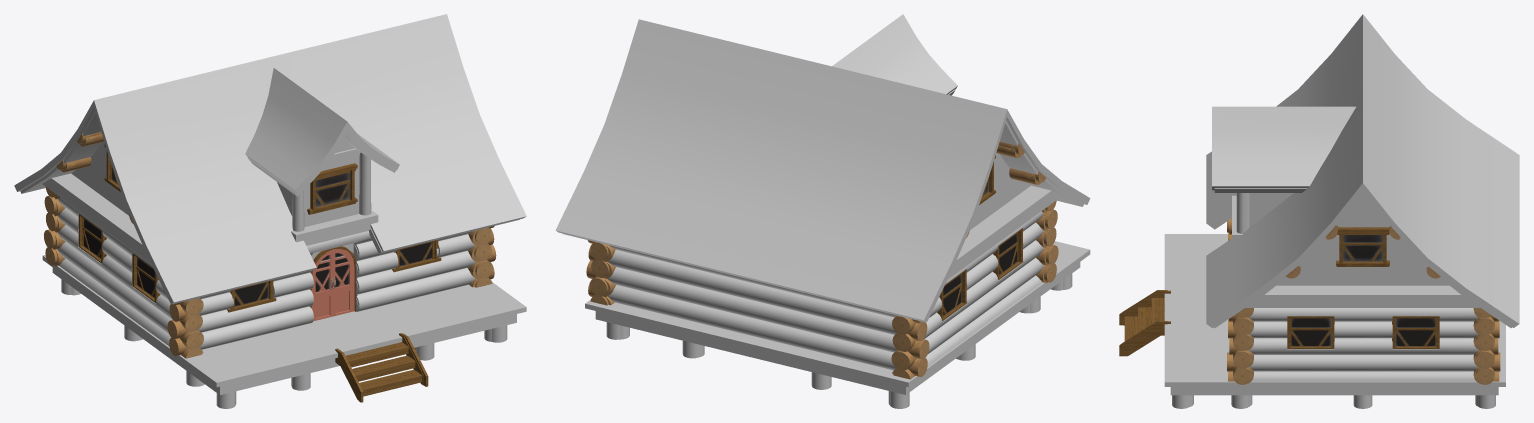
3 renders of one model, left to right at view 1: azimuth 30°, elevation 25°; view 2: azimuth 150°, elevation 25°; view 3: azimuth 270°, elevation 25°, orthographic. The views are drawn at different scales.
Parts seen in each view (by area): view 1: pCylinder25, base_combine; view 2: pCylinder25, base_combine; view 3: pCylinder25, base_combine.
Part boxes in pixels (bbox=[...]): pCylinder25: bbox=[14, 14, 526, 408]; base_combine: bbox=[20, 111, 519, 403]; pCylinder25: bbox=[555, 14, 1090, 408]; base_combine: bbox=[563, 89, 1083, 404]; pCylinder25: bbox=[1119, 14, 1519, 408]; base_combine: bbox=[1123, 188, 1511, 406].
Bounding box in the file's own units: 11.91 × 7.96 × 11.92.
